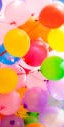Balloon: (3, 29, 30, 57), (2, 1, 29, 27), (22, 87, 48, 112), (38, 3, 64, 26), (40, 56, 64, 79), (1, 67, 18, 94), (1, 91, 20, 115), (48, 27, 64, 53)
